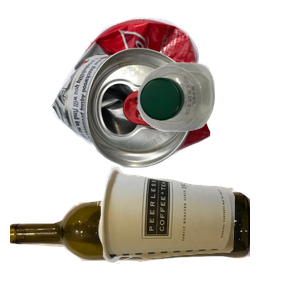glass: (10, 189, 250, 300)
metal: (48, 15, 251, 175)
plastic: (135, 60, 300, 184)
trash: (95, 164, 300, 300)
